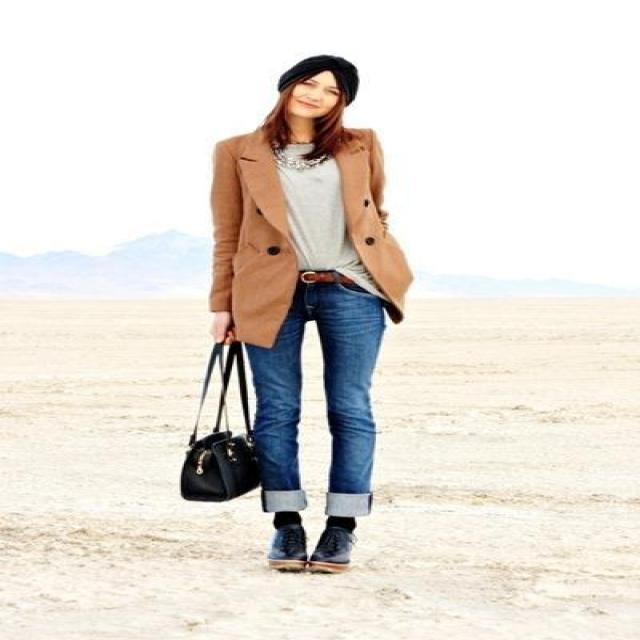bag: (181, 346, 267, 501)
jacket: (210, 127, 412, 370)
pants: (215, 270, 402, 524)
shirt: (275, 141, 365, 287)
shoe: (267, 511, 355, 574)
